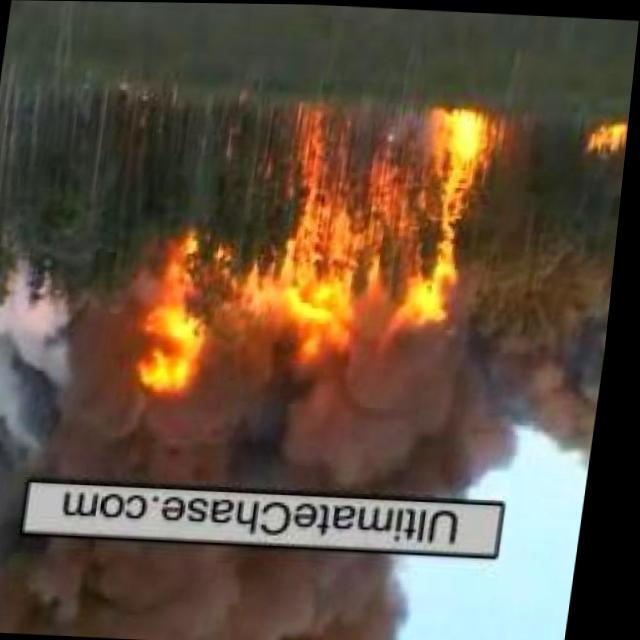fire: (268, 98, 496, 346), (131, 231, 229, 409), (581, 118, 631, 166)
